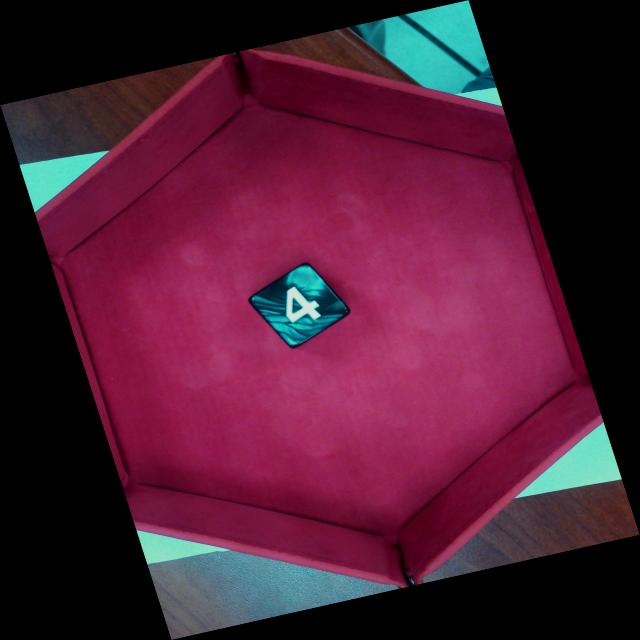dice: (246, 263, 353, 352)
